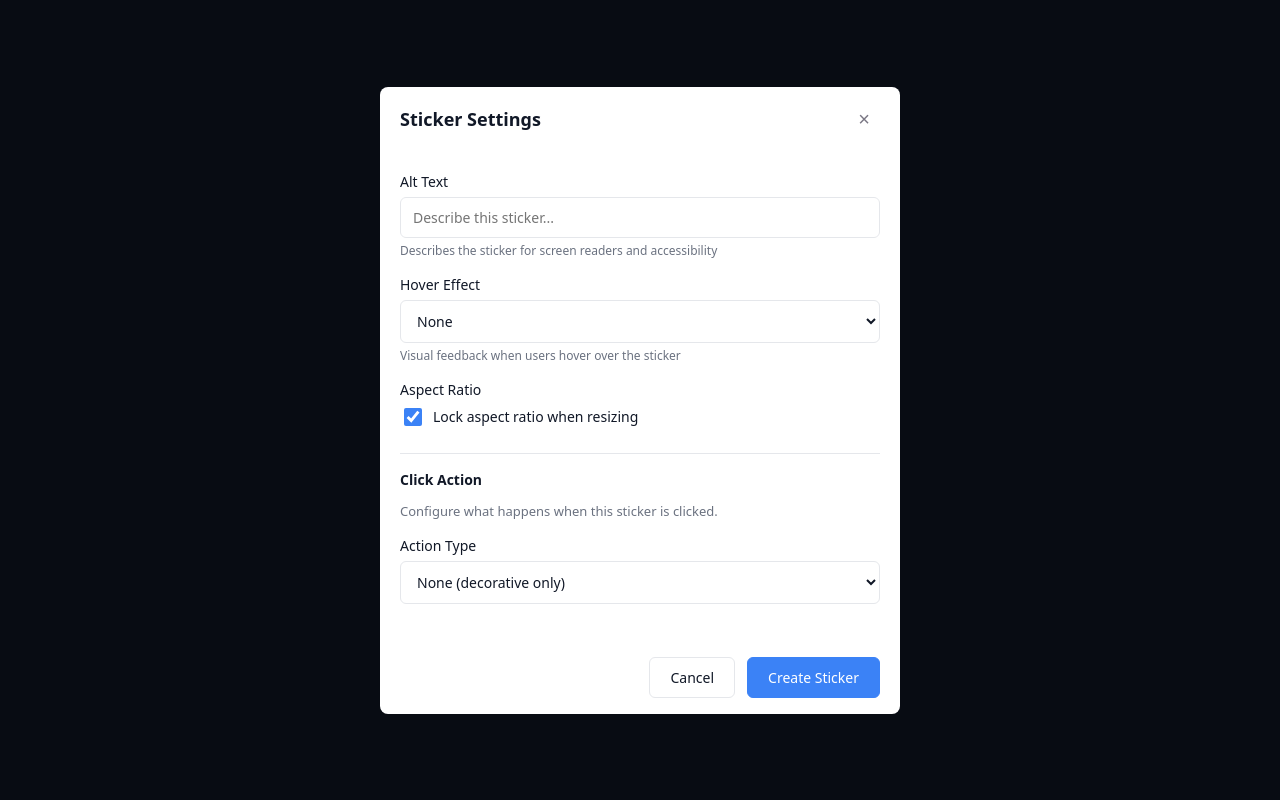
Scenario: StickerSettingsModal › validates URL and shows error for invalid URL
The width and height of the screenshot is (1280, 800).
Note: Select 'open-url' action type
Select "Open URL" in the dropdown labelled "Action Type". click: (640, 582)
box: [400, 560, 880, 604]
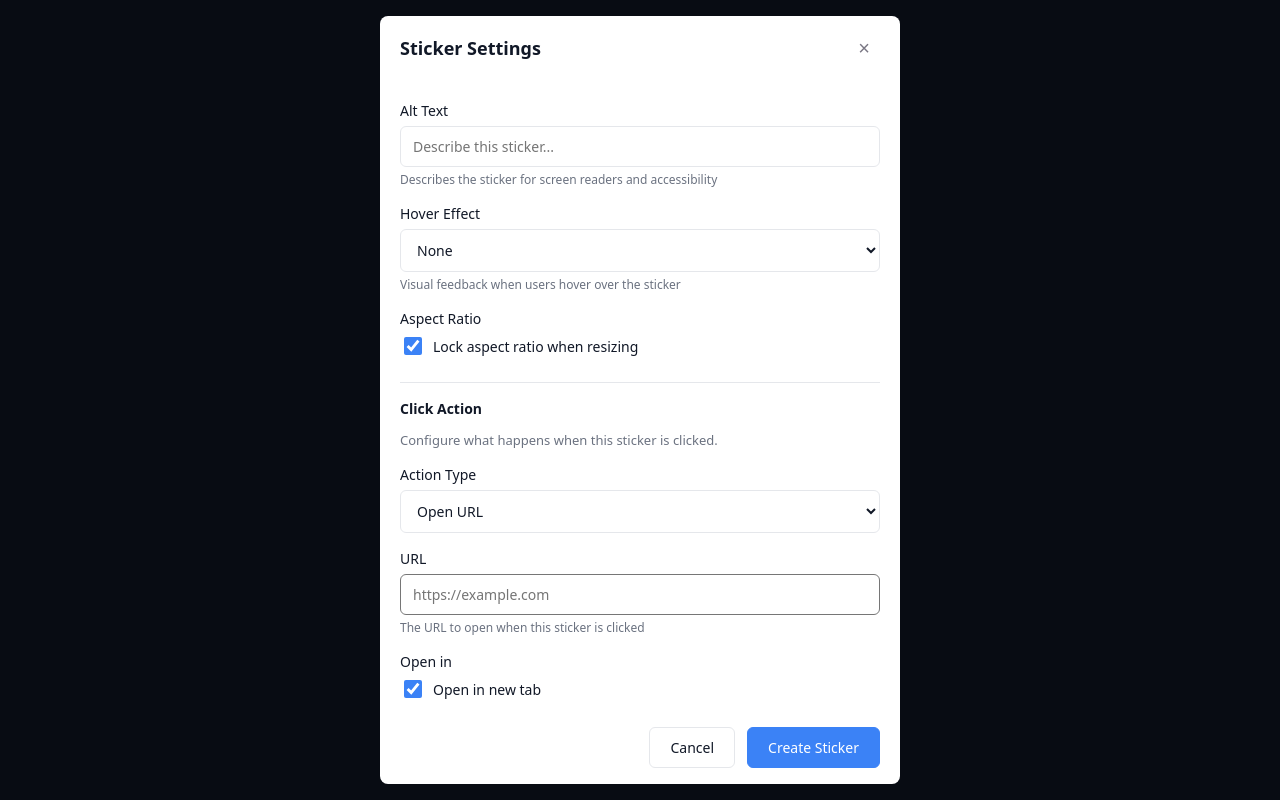
Note: Enter invalid URL
Type "not-a-valid-url" into the field labelled "URL". click: (640, 594)
box: [400, 574, 880, 615]
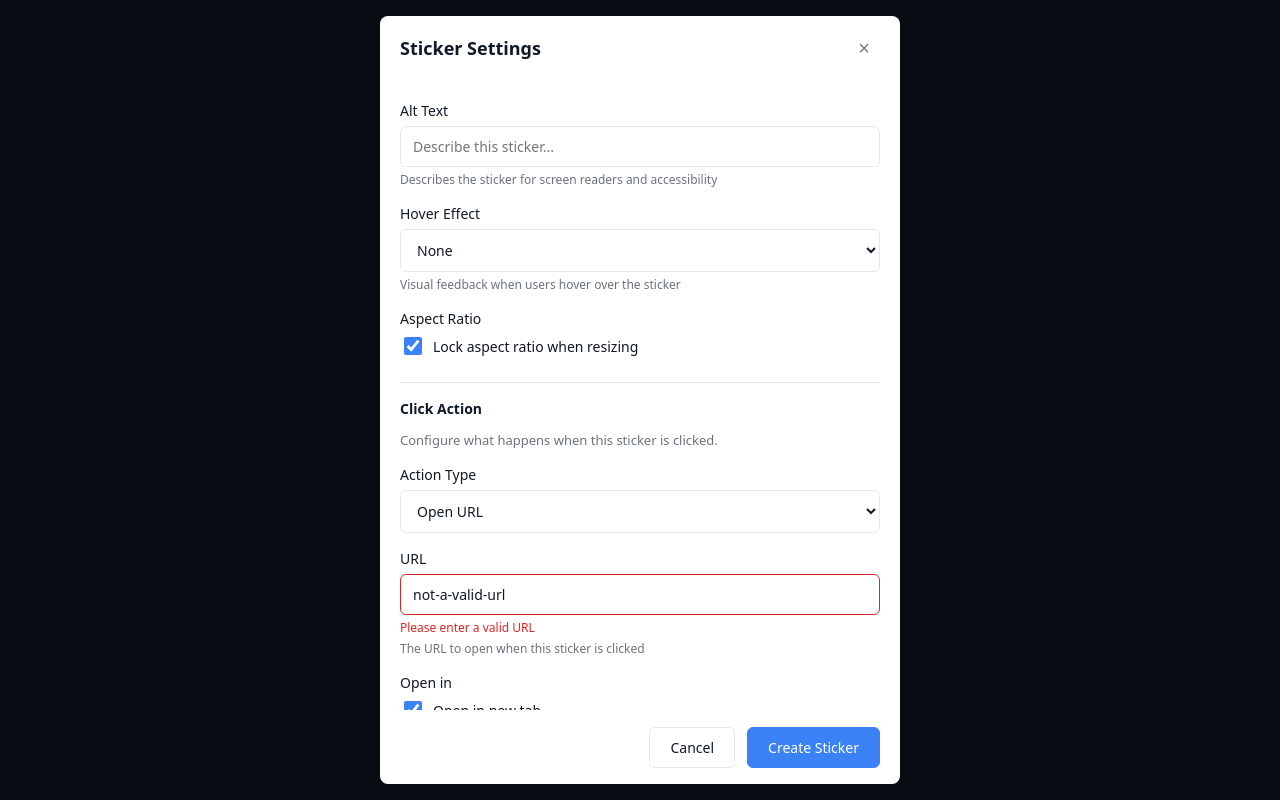
Expected: the text "Please enter a valid URL" is shown, [400, 619, 535, 636]
